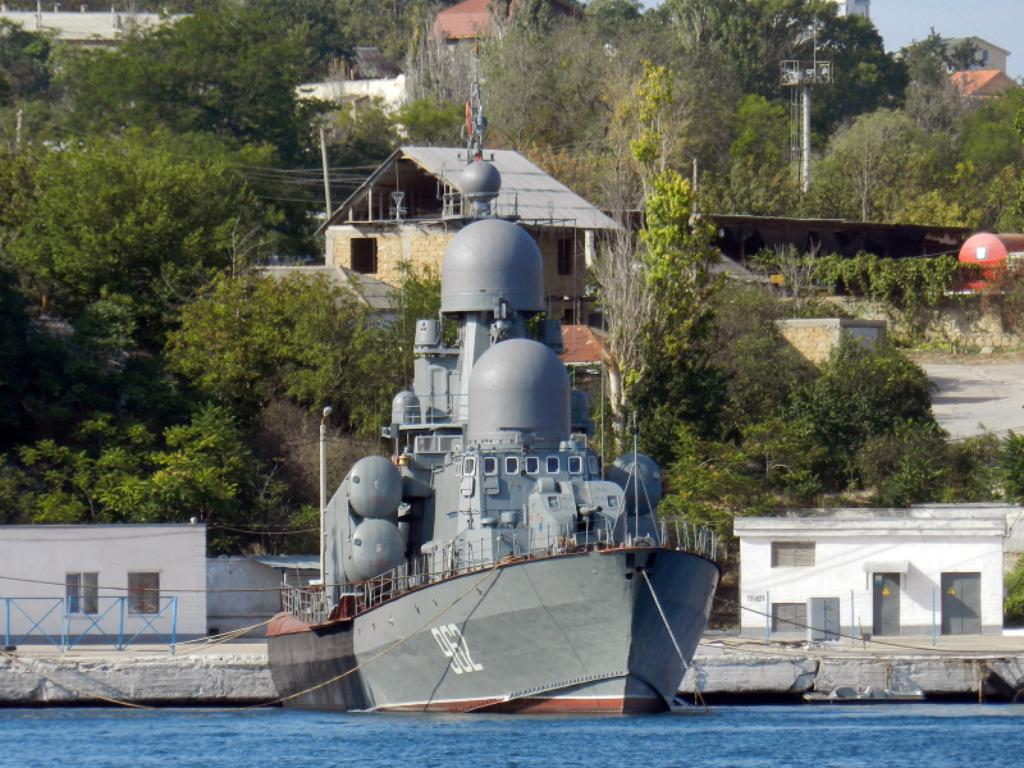Warship: (264, 36, 722, 714)
